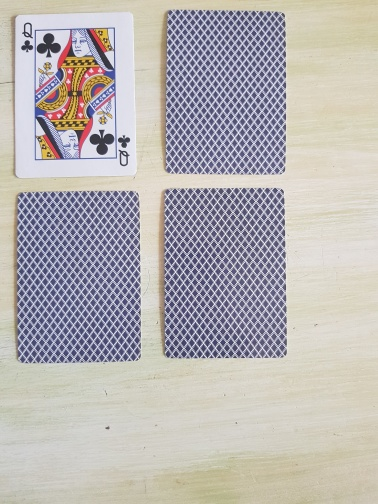queen: (12, 10, 138, 180)
